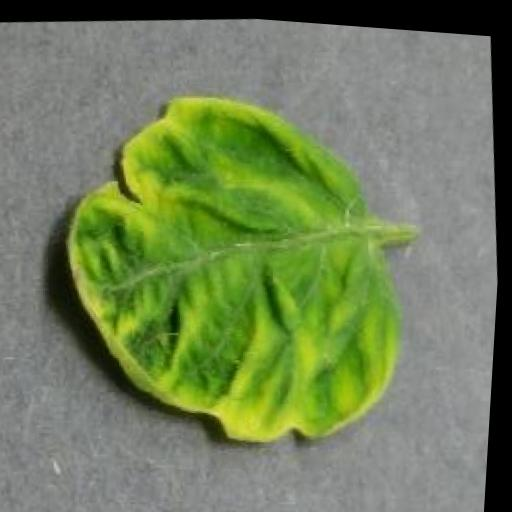Yellow Leaf Curl Virus: (44, 66, 425, 467)
